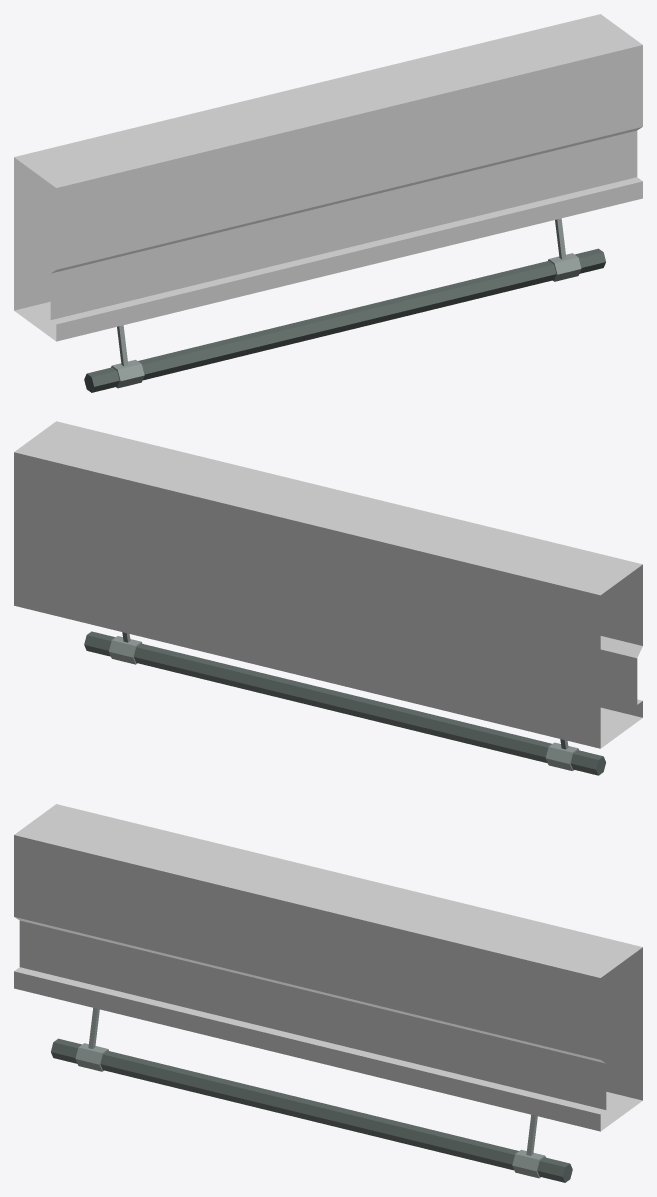
The model's file is PG_Block.fbx.
3 views of the same model, one above another, from view 1: azimuth 30°, elevation 25°; view 2: azimuth 150°, elevation 25°; view 3: azimuth 330°, elevation 25° (orthographic).
Visible parts, largest first — view 1: PG_Block; view 2: PG_Block; view 3: PG_Block.
Boxes of the visible parts, x1=… form: PG_Block: x1=14, y1=14, x2=642, y2=392; PG_Block: x1=14, y1=421, x2=642, y2=775; PG_Block: x1=14, y1=804, x2=642, y2=1182.
Bounding box in the file's own units: 800 × 282 × 103.
